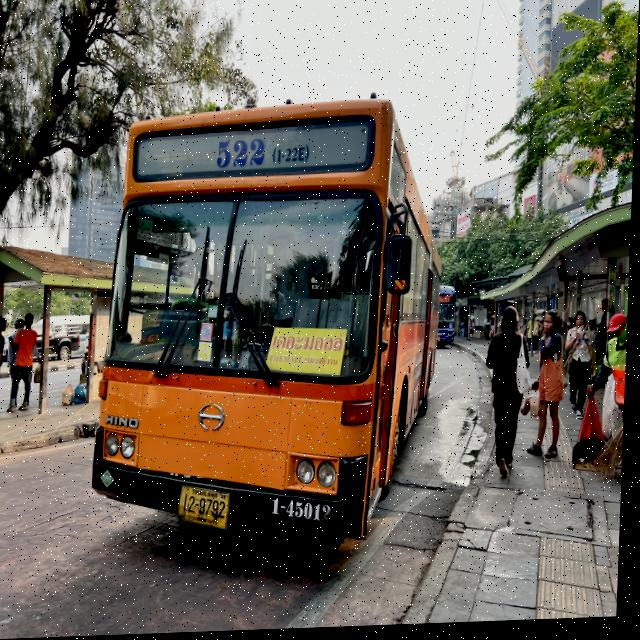BMTA-bus: (91, 88, 451, 566)
Bus Line Number: (210, 134, 315, 175)
Bus Side Number: (269, 495, 338, 531)
Destination Sign: (272, 329, 348, 382)
